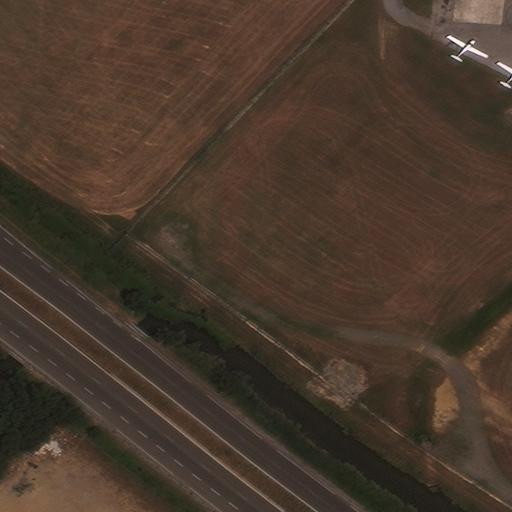Small Civil Transport: (446, 33, 488, 60), (499, 60, 512, 87)
